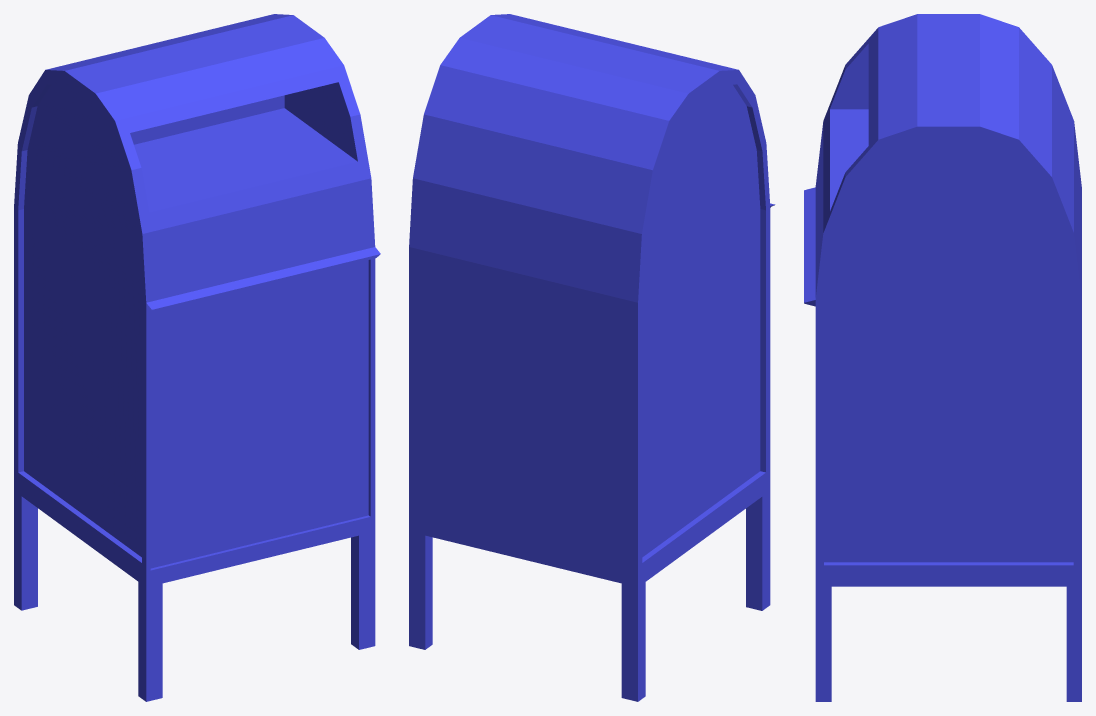
The model's file is Mailbox.fbx.
The picture shows the model from 3 angles, left to right: view 1: azimuth 30°, elevation 25°; view 2: azimuth 150°, elevation 25°; view 3: azimuth 270°, elevation 25°; orthographic projection.
Visible parts, largest first — view 1: Mailbox; view 2: Mailbox; view 3: Mailbox.
Boxes of the visible parts, x1,y1,x2,y2 form: Mailbox: (14, 14, 380, 701); Mailbox: (409, 14, 775, 701); Mailbox: (804, 14, 1081, 701).
Size of the model in its own units: 18.2 by 43.4 by 18.99.
